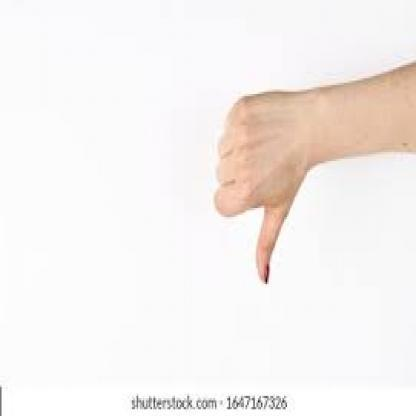thumb_down: (214, 86, 301, 286)
